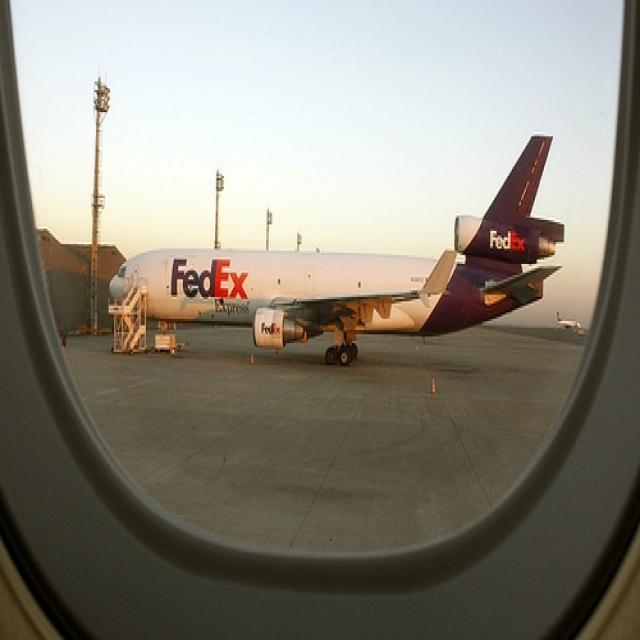fedex: (167, 254, 252, 304), (488, 225, 533, 256)
